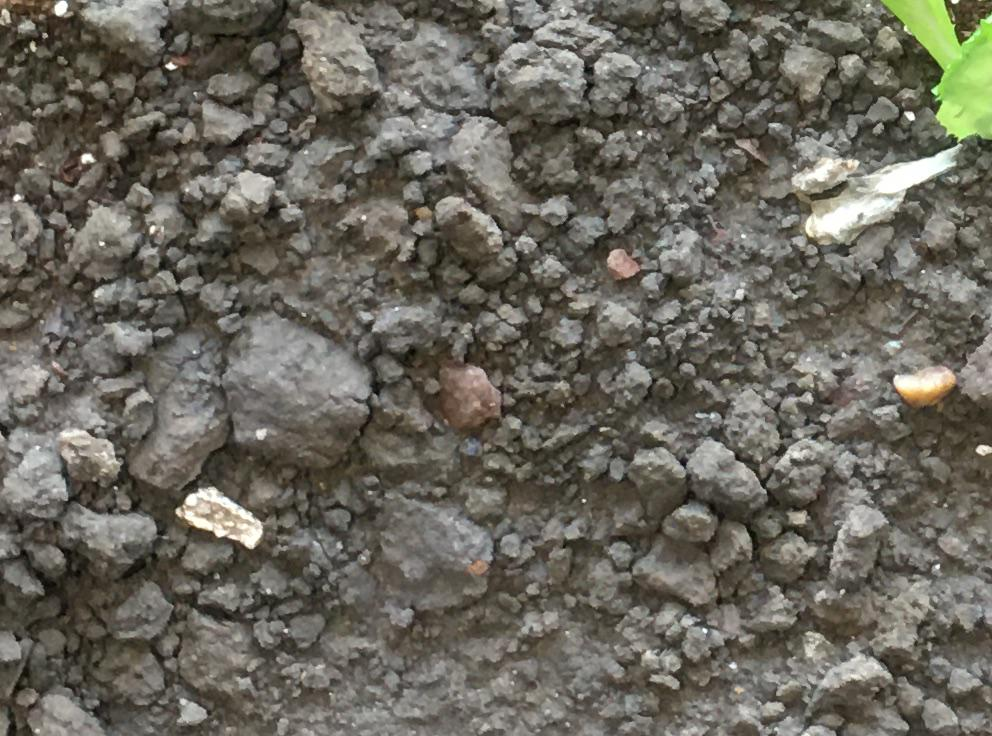block: (215, 310, 368, 475), (122, 316, 229, 492), (375, 498, 498, 622)
